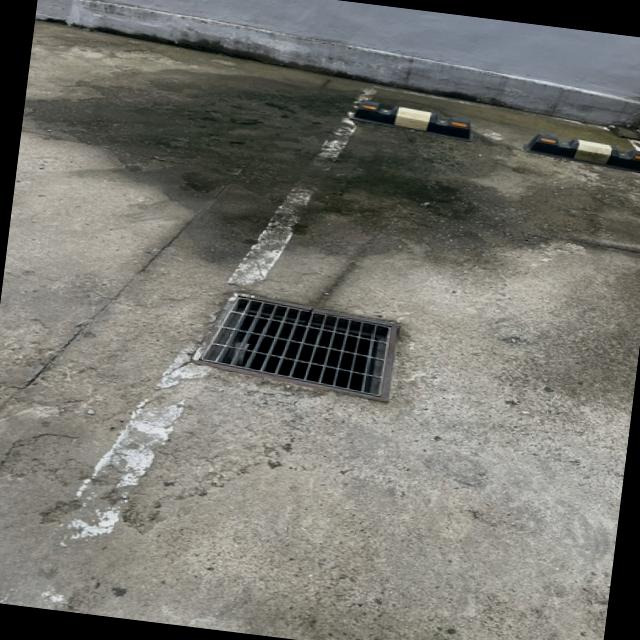drain_area: (202, 297, 390, 395)
drain_full: (199, 296, 390, 396)
